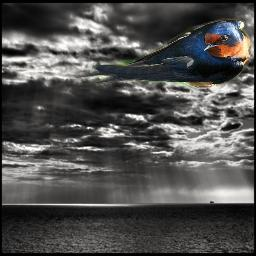Swallow: (74, 18, 252, 89)
